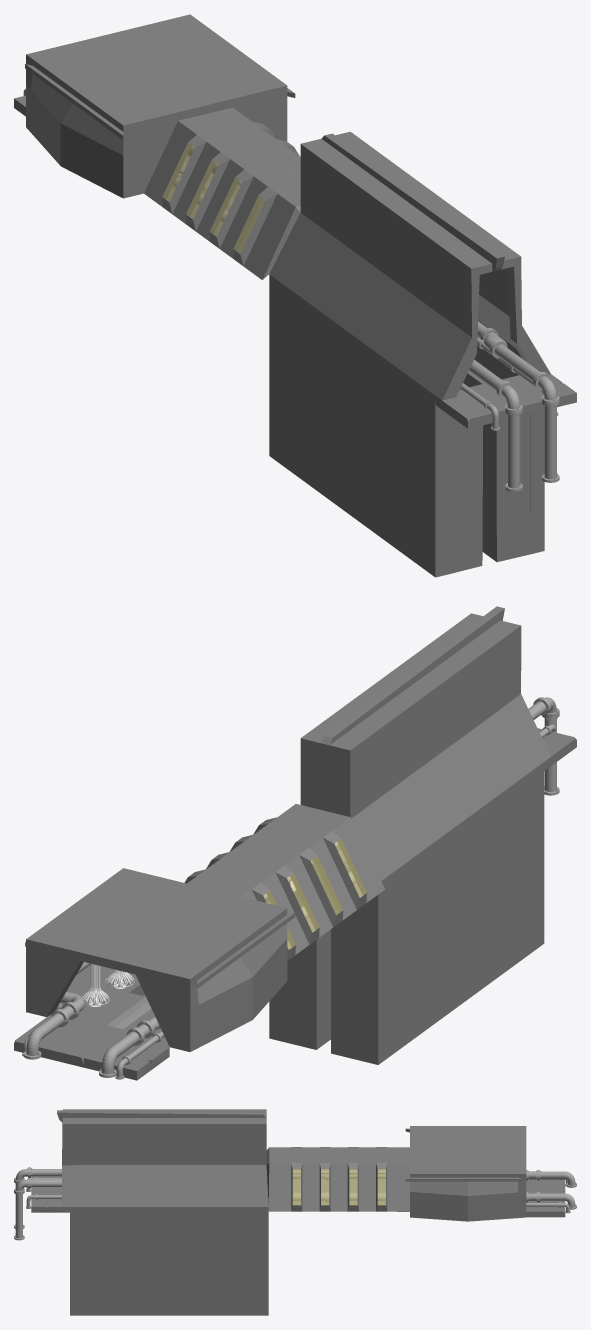
The model's file is Tutorial_Box.fbx.
3 views of the same model, one above another, from view 1: azimuth 30°, elevation 25°; view 2: azimuth 150°, elevation 25°; view 3: azimuth 270°, elevation 25° (orthographic). The views are drawn at different scales.
Visible parts, largest first — view 1: polySurface12, Pipes_4, Pipes_6, polySurface11; view 2: polySurface12, Pipes_6, polySurface11, Pipes_4, Pipes_10, Lamp_6; view 3: polySurface12, Pipes_4, Pipes_6, polySurface11, Pipes_8.
Part boxes in pixels (x1,y1,x2,y2): polySurface12: (14,14,576,577); Pipes_4: (477,321,559,482); Pipes_6: (23,89,522,491); polySurface11: (223,168,300,258); polySurface12: (14,606,576,1080); Pipes_6: (99,697,559,1077); polySurface11: (254,824,355,914); Pipes_4: (23,962,90,1059); Pipes_10: (115,724,556,1079); Lamp_6: (82,927,109,1006); polySurface12: (31,1109,565,1315); Pipes_4: (14,1178,576,1240); Pipes_6: (14,1167,576,1228); polySurface11: (302,1147,319,1211); Pipes_8: (26,1170,570,1213).
Bounding box in the file's own units: 4680 × 7333 × 19898.
